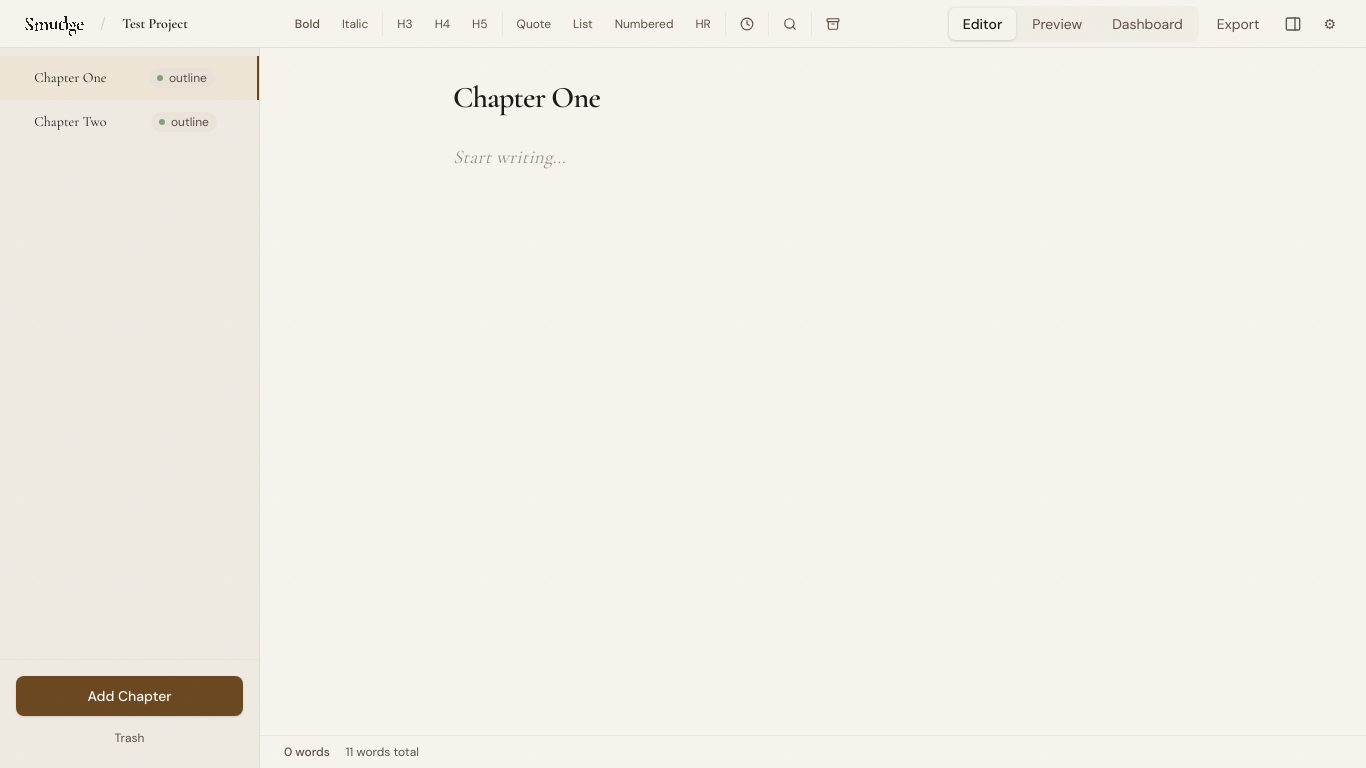
EditorPage title editing guards › cancels chapter title edit on Escape
This screenshot has width=1366, height=768.
# Double-click to start editing
Double-click the heading "Chapter One".
double_click(527, 98)  # box top-left (453, 79), bottom-right (600, 116)
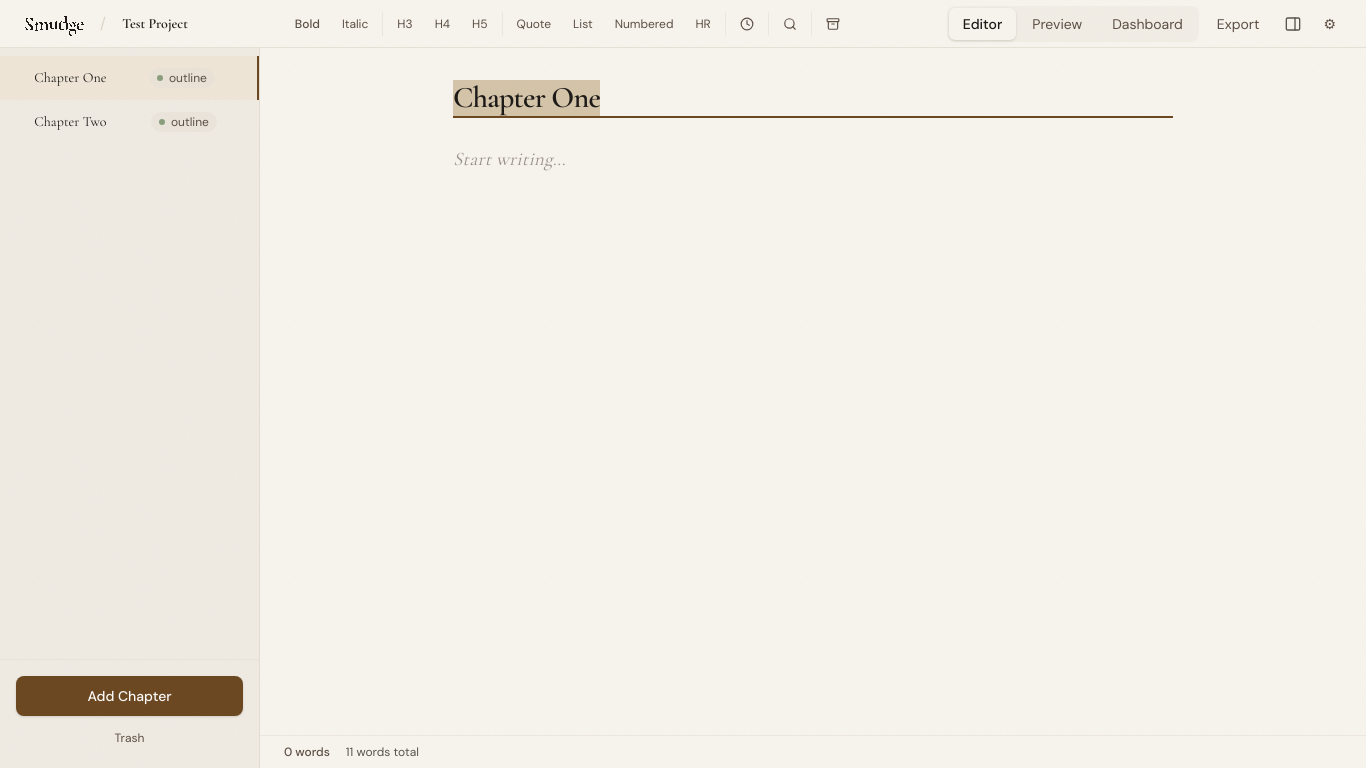
expect the field named "Chapter title" is shown: met
# Press Escape to cancel
Press Escape in the field named "Chapter title", box top-left (453, 80), bottom-right (1173, 118)
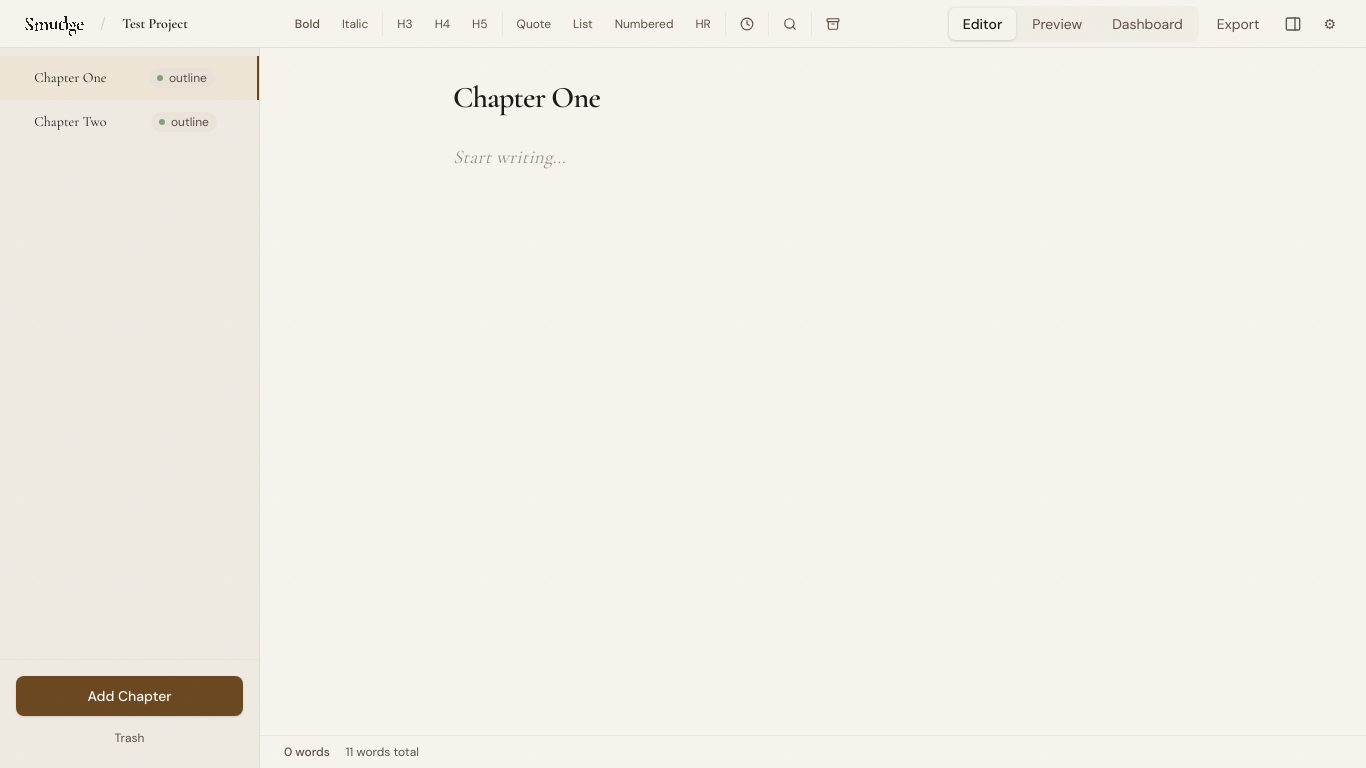
expect the heading "Chapter One" is shown: met, box top-left (453, 79), bottom-right (600, 116)
